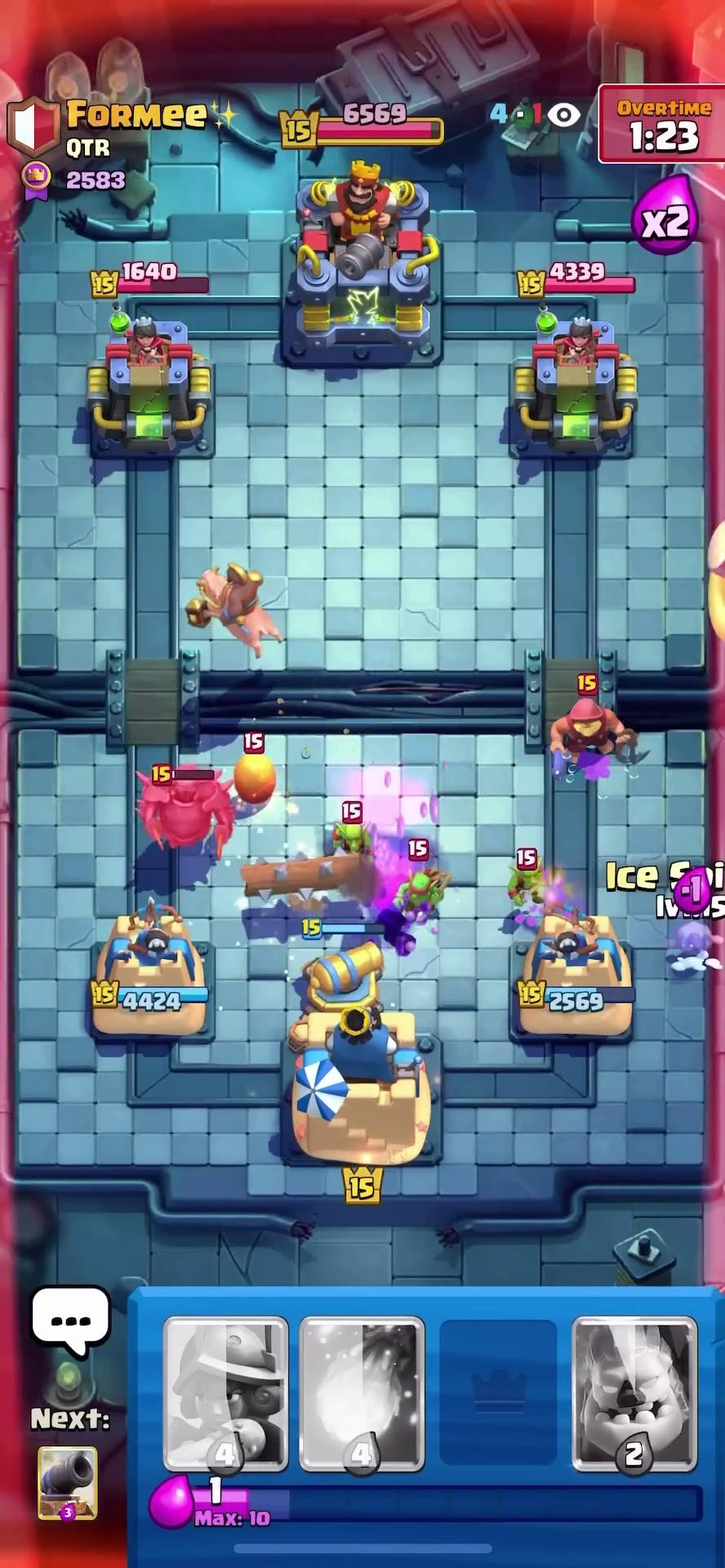cannon: (274, 919, 400, 1023)
hog_rider: (180, 557, 288, 657)
log: (247, 843, 369, 898)
